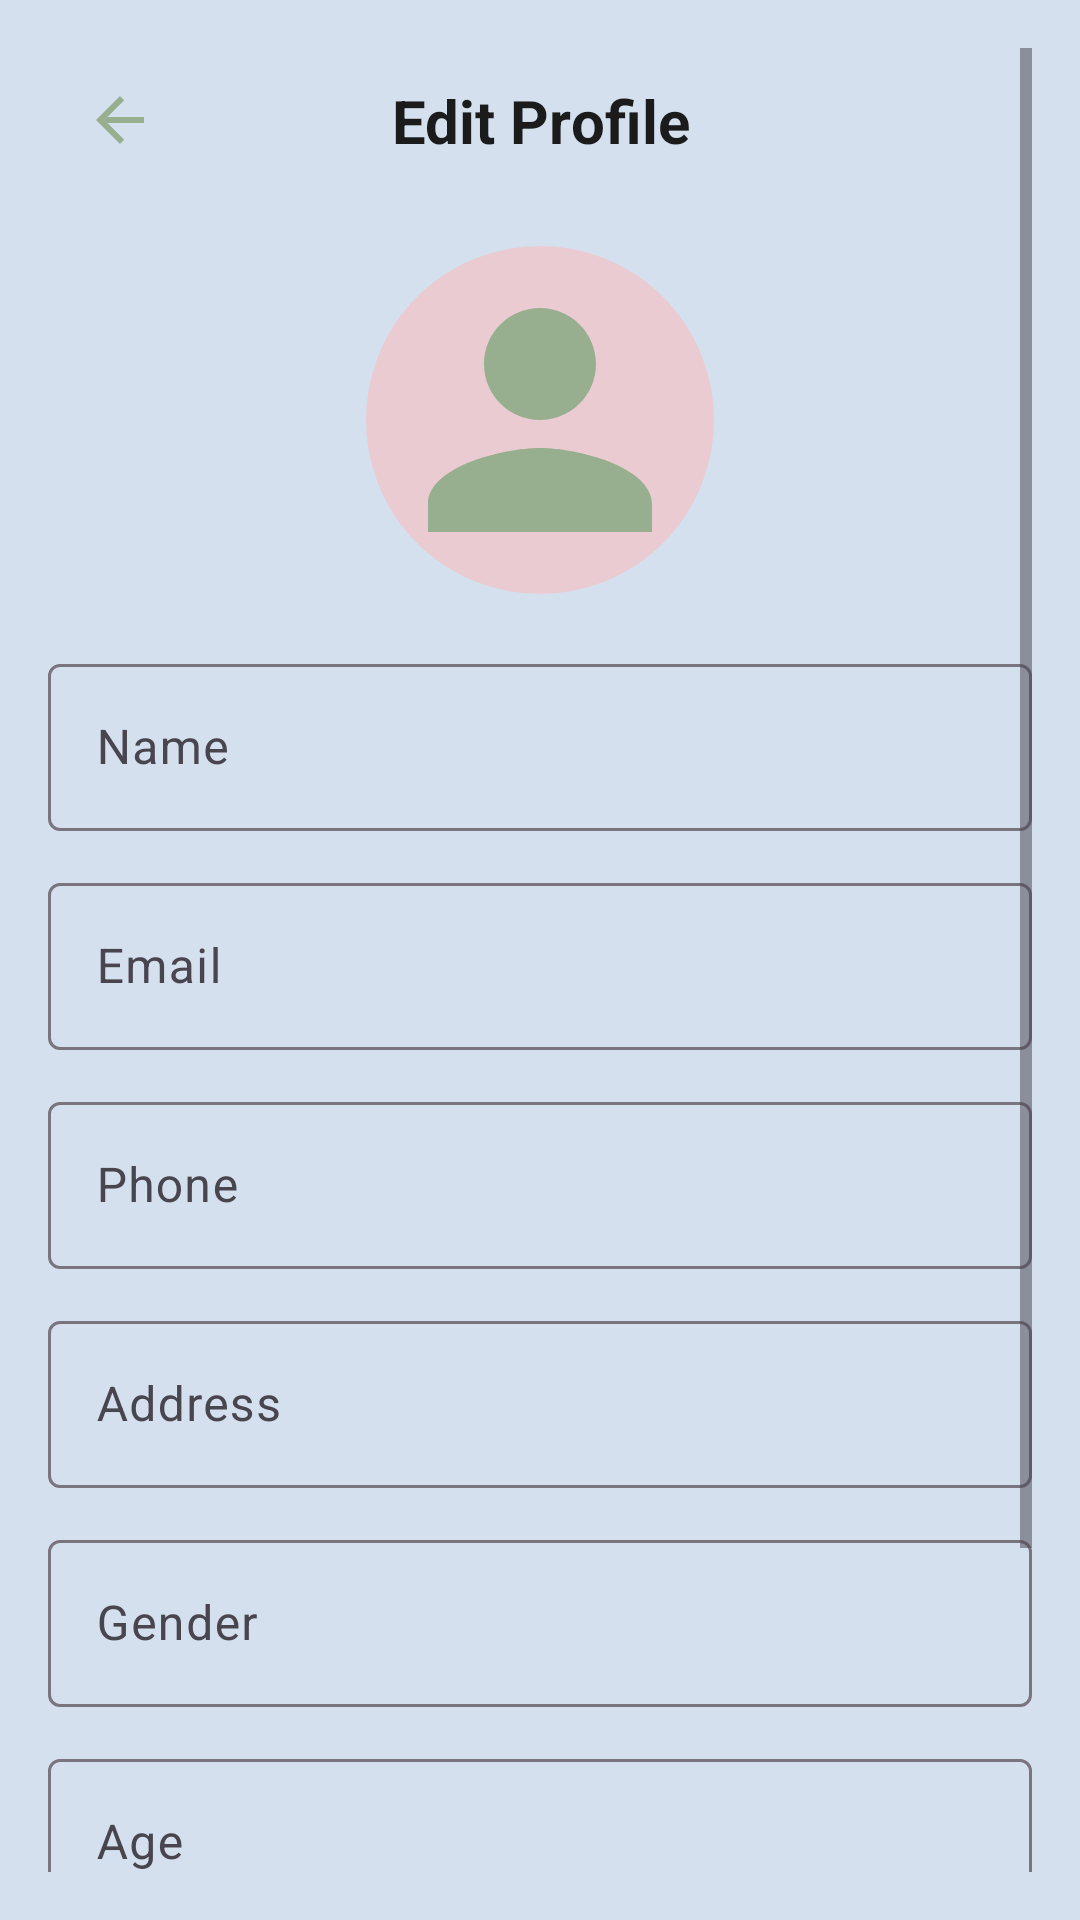

Screen size 1080*1920. Icon name, then its center in pixels as point (x, y):
Back: point (120, 120)
person: point (540, 420)
